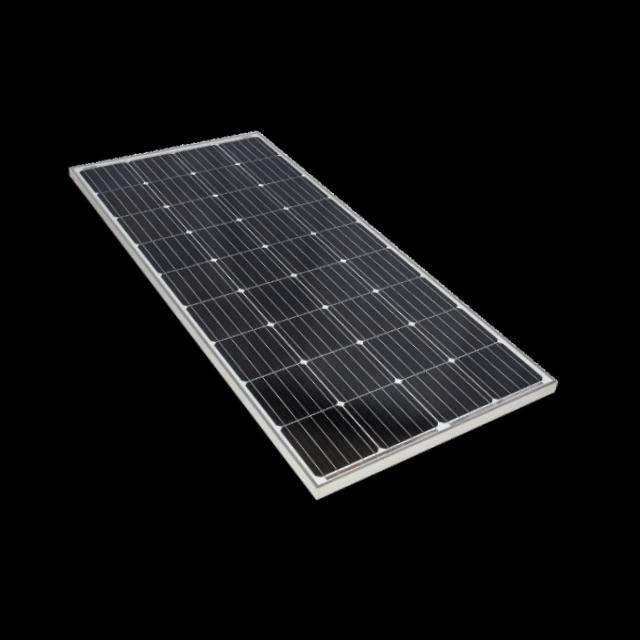no faulty: (76, 136, 550, 471)
